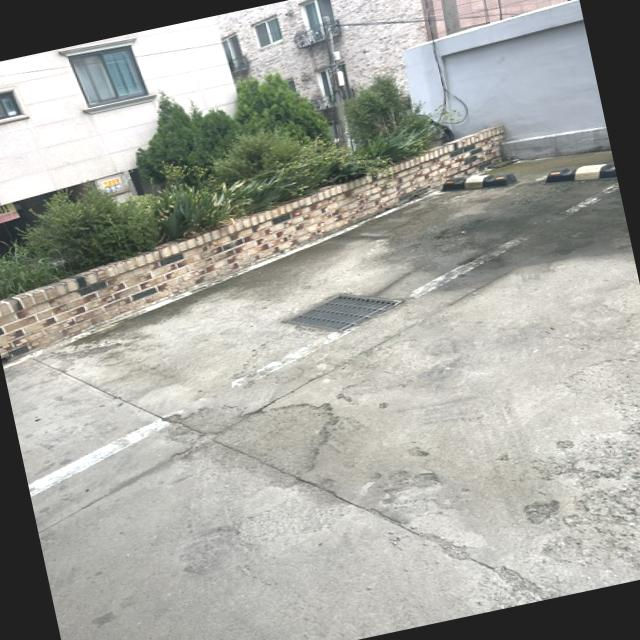drain_area: (288, 296, 396, 329)
drain_full: (289, 295, 398, 330)
